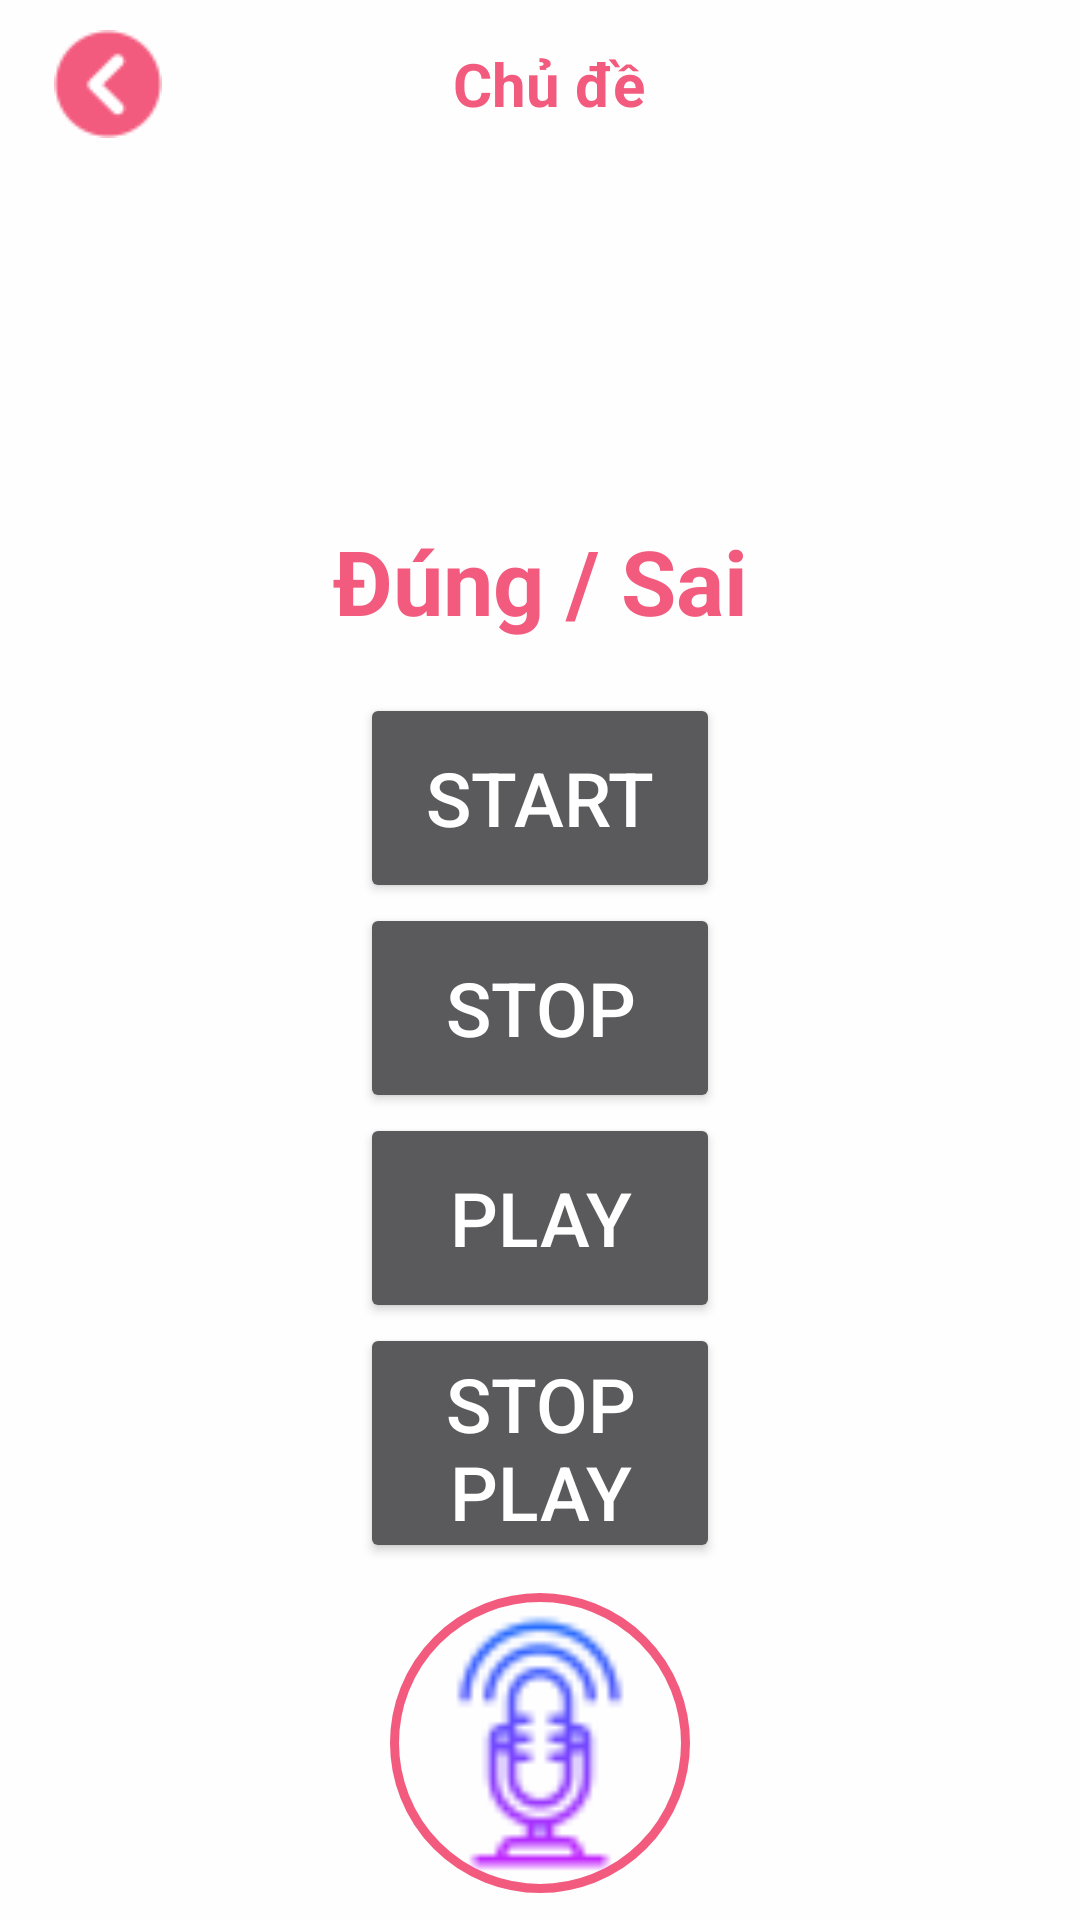

Where icons sit on this 1080x1920 app screen, as (x1, y1, x2, y2):
back: (54, 30, 162, 138)
microphone: (390, 1593, 690, 1893)
